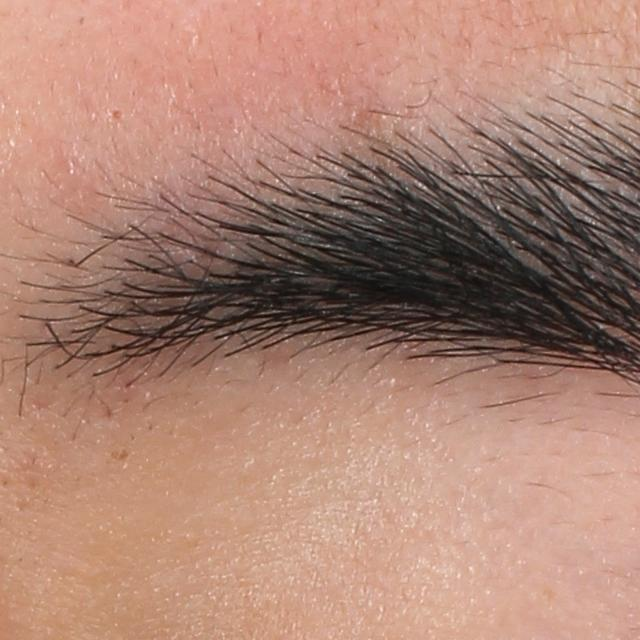comedo: (107, 104, 126, 123)
